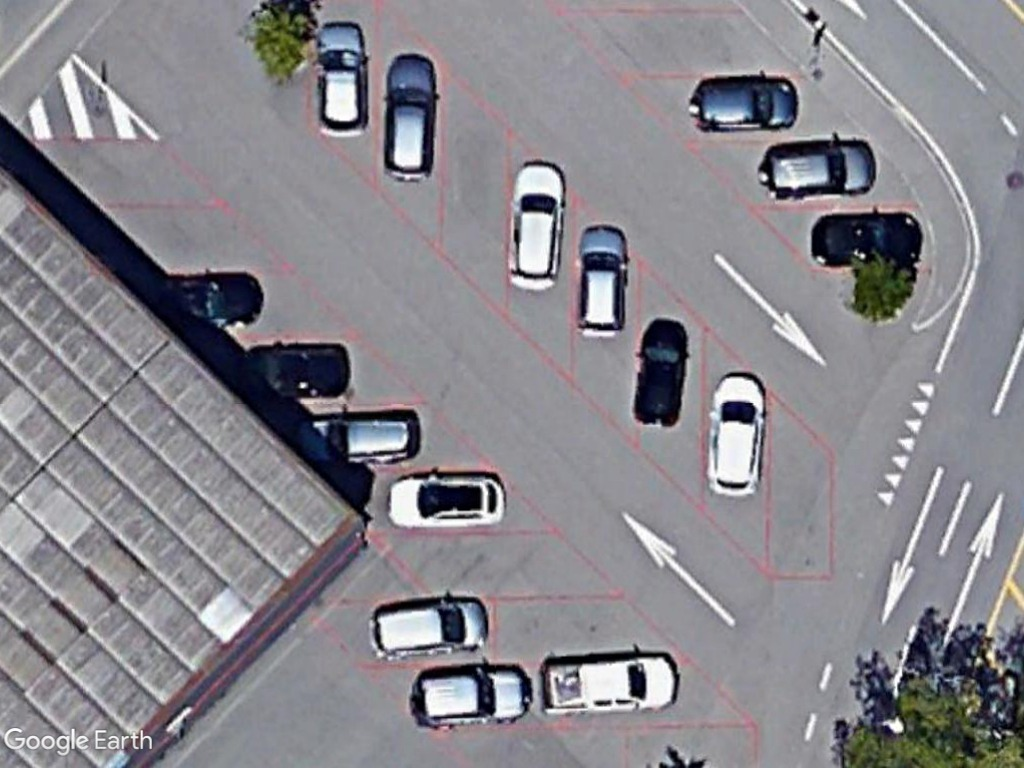car: (408, 659, 534, 734), (538, 652, 683, 717), (706, 368, 770, 501), (508, 156, 568, 294), (369, 595, 488, 664), (382, 52, 441, 185), (385, 470, 508, 531), (629, 314, 693, 427), (760, 140, 877, 201), (688, 75, 800, 137), (316, 20, 372, 138), (576, 220, 629, 338)
